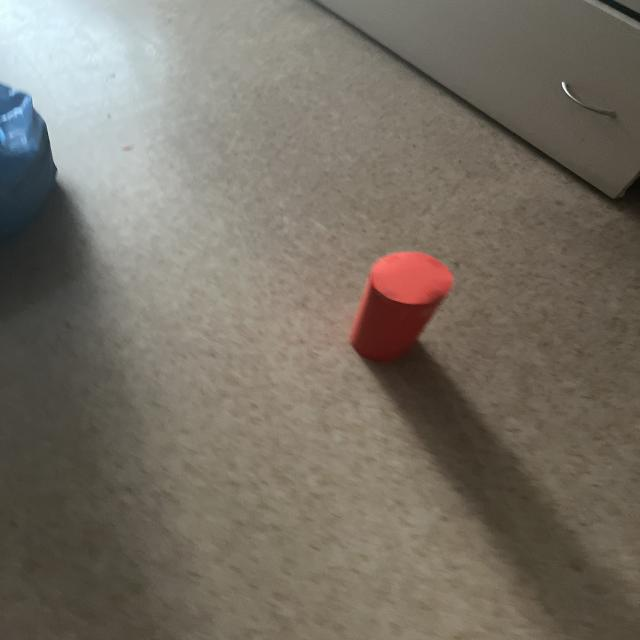przeszkoda: (349, 252, 454, 361)
